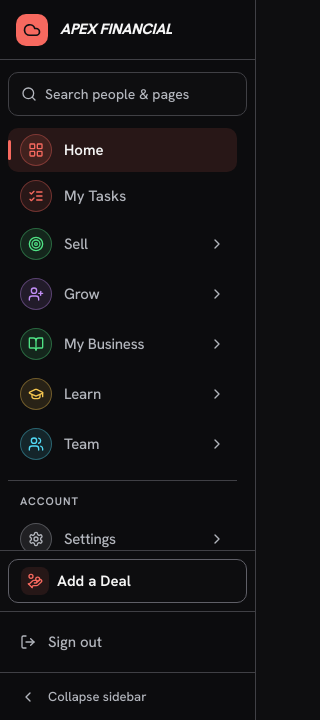
Test: GlobalSidebar · AgentCloud application navigation › keeps high-frequency work discoverable to plain agents without internal contracting
Later steps or results of the test are not shown.
Click the button "Sell".
click(122, 244)  # box [8,222,237,266]
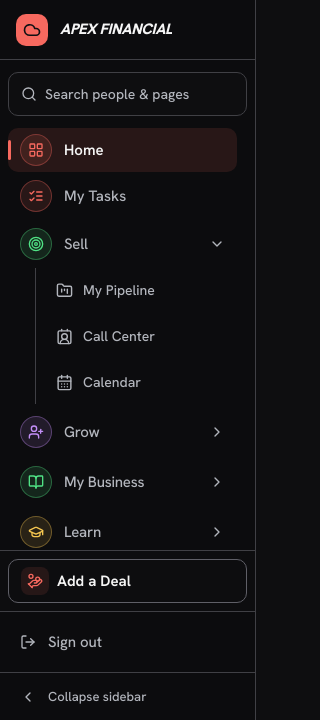
Result: the button "Sell" is expanded at [8,222,237,266]
Click the button "Grow".
click(122, 432)  # box [8,410,237,454]
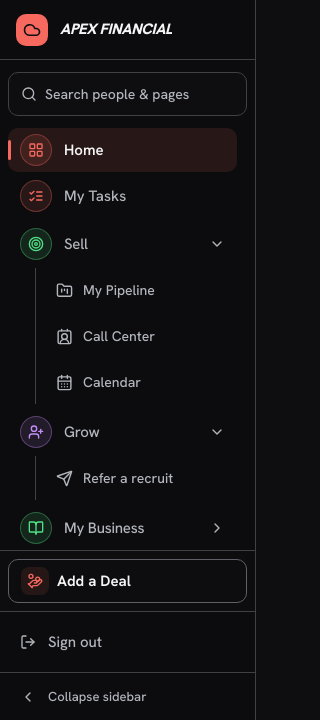
Result: the button "Grow" is expanded at [8,410,237,454]
Click the button "My Business".
click(122, 528)  # box [8,506,237,550]
(page scrolled)
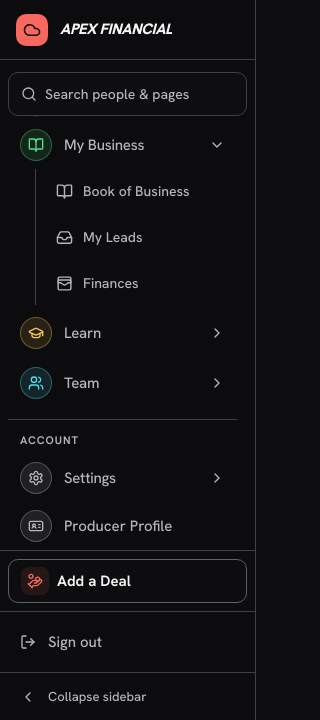
Result: the button "My Business" is expanded at [8,123,237,167]
Click the button "Learn".
click(122, 333)  # box [8,311,237,355]
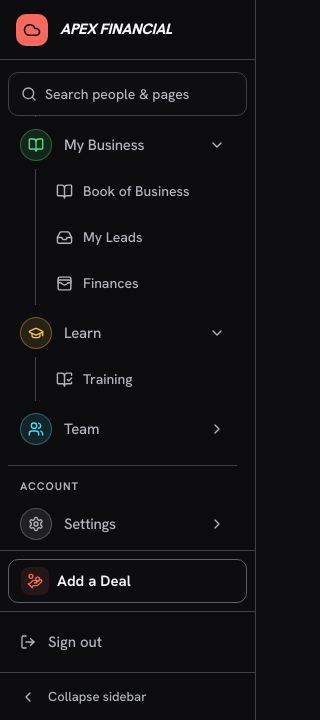
Result: the button "Learn" is expanded at [8,311,237,355]
Click the button "Team".
click(122, 429)  # box [8,407,237,451]
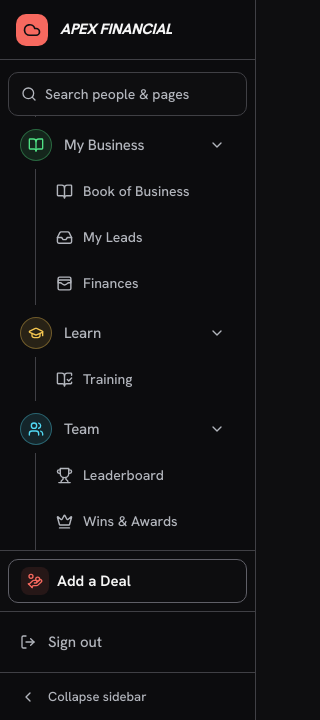
Result: the button "Team" is expanded at [8,407,237,451]
